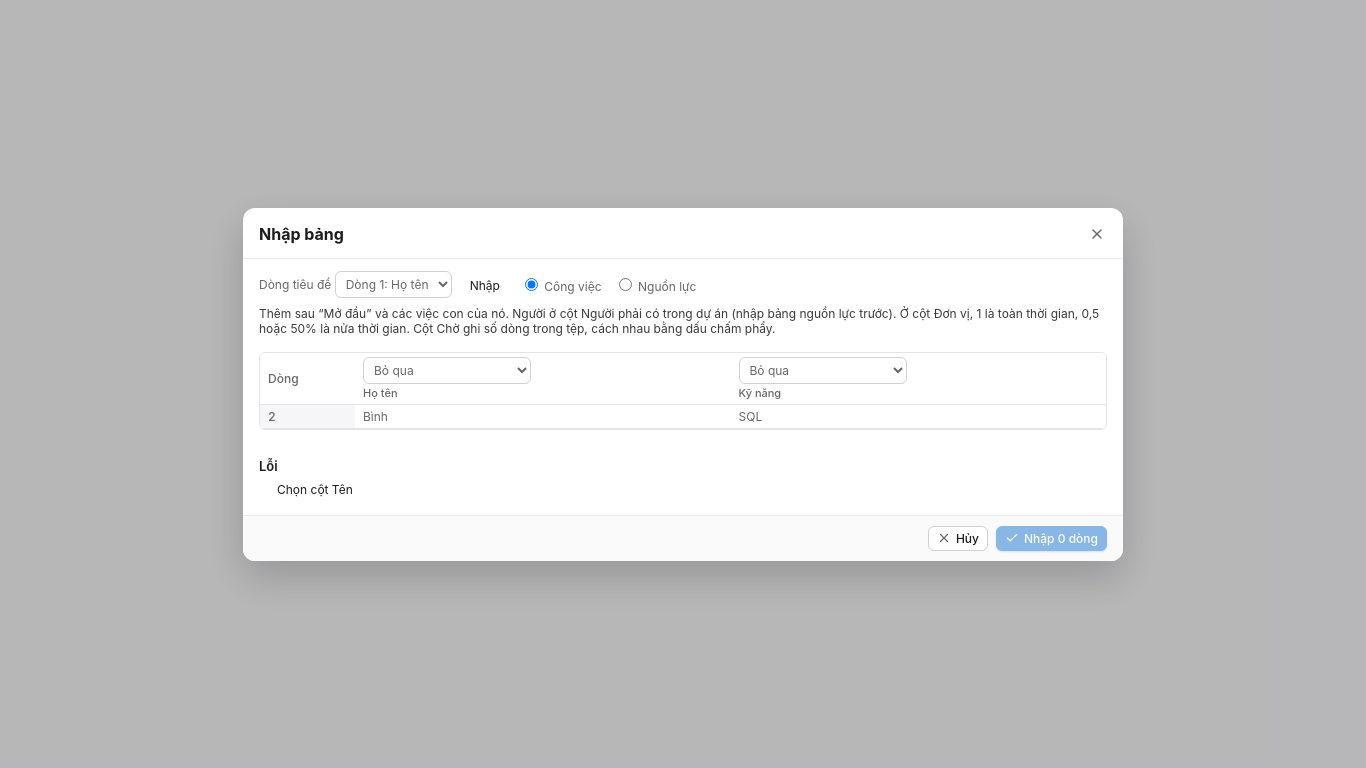
ImportDialog › lets a column be left out and switches to importing people
The image size is (1366, 768).
Select "Bỏ qua" in the dropdown named "Cột 2: Kỹ năng" at [822, 370], box [738,356,906,384]
Click the radio button labelled "Nguồn lực" at [625, 284], box [619,278,632,290]
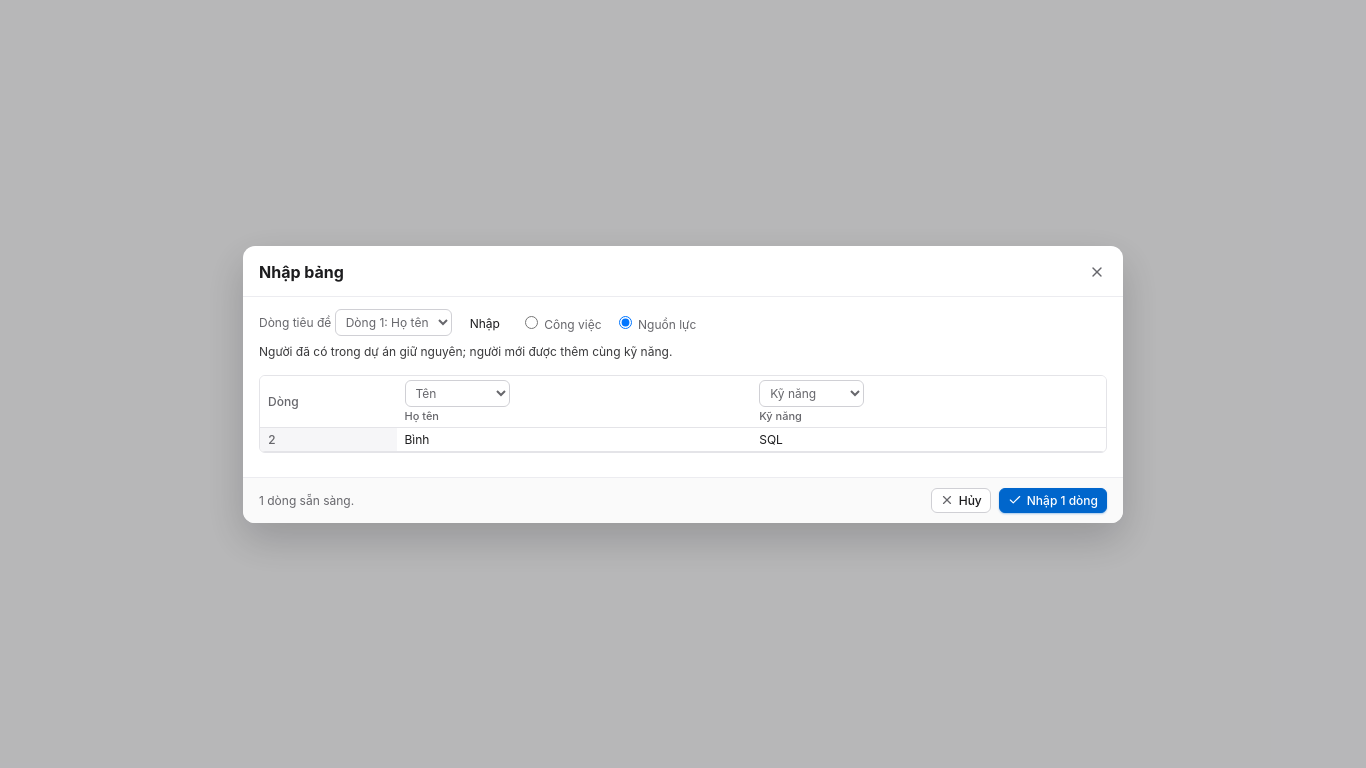
Expected: the dropdown named "Cột 1: Họ tên" shows "Tên", [404,380,510,406]
Expected: the text "Người đã có trong dự án giữ nguyên" is shown, [259,344,672,358]
Expected: the button "Nhập 1 dòng" is enabled, [999,488,1107,512]
